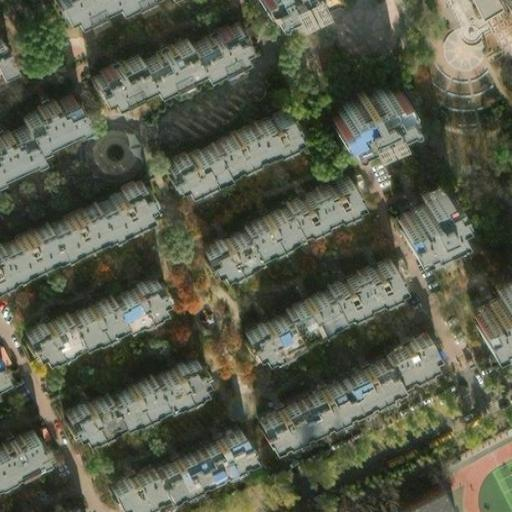building: (245, 318, 426, 433), (191, 163, 348, 266), (234, 246, 390, 349), (0, 166, 146, 269), (101, 421, 246, 503), (57, 348, 197, 430), (14, 266, 154, 348), (154, 94, 288, 177), (79, 14, 229, 87), (0, 87, 76, 160), (314, 71, 390, 127), (456, 260, 512, 323), (383, 167, 441, 227), (385, 481, 445, 512), (0, 421, 40, 466), (0, 30, 23, 82), (0, 343, 16, 388)
